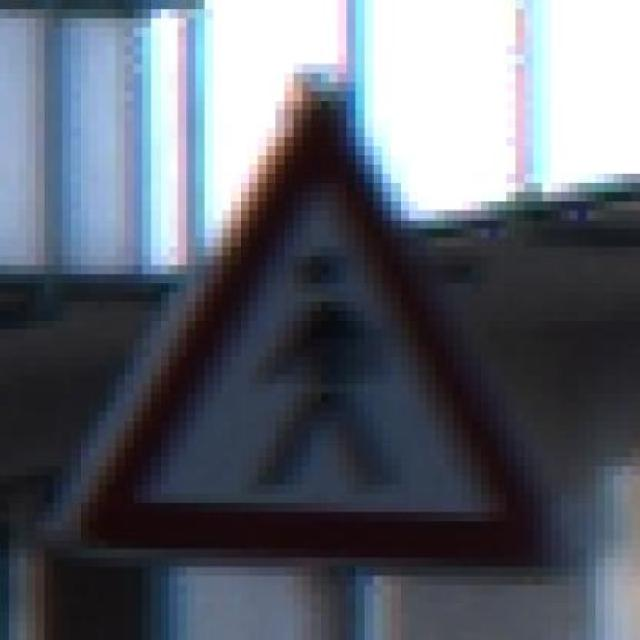Pedestrian Crossing: (62, 54, 578, 586)
